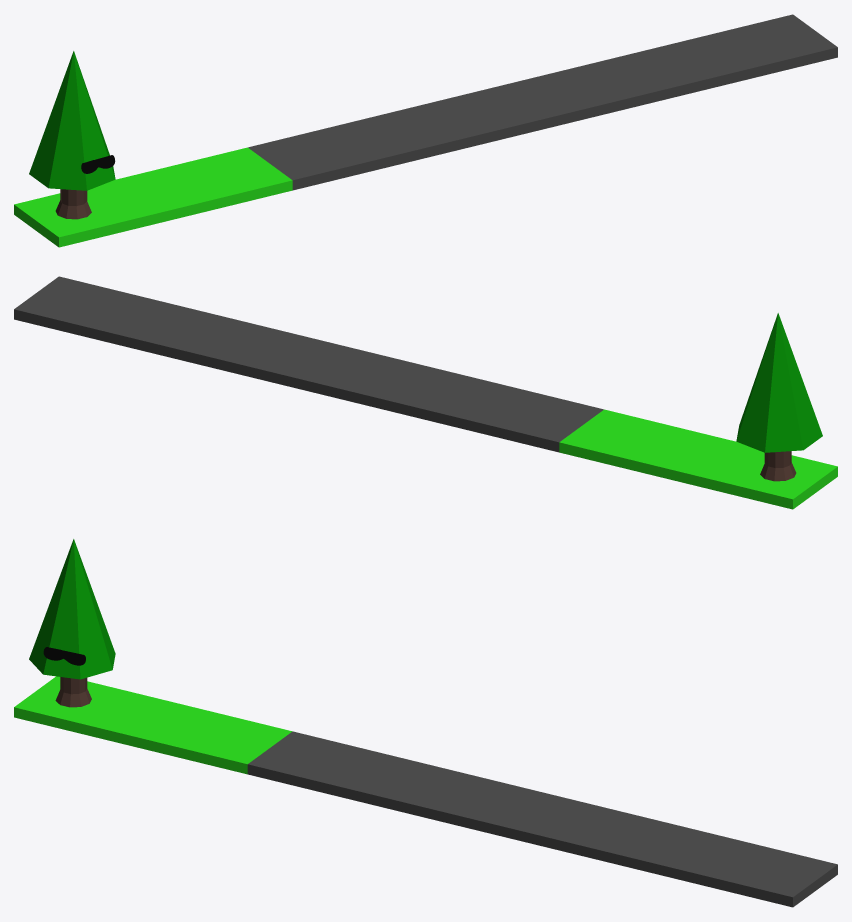
The model's file is Beginning_Platform.fbx.
3 renders of one model, top to bottom at view 1: azimuth 30°, elevation 25°; view 2: azimuth 150°, elevation 25°; view 3: azimuth 330°, elevation 25°, orthographic.
Parts seen in each view (by area): view 1: Platform4Grass2, Platform1Conc1, Platform1Grass, ThePostalTree; view 2: Platform4Grass2, Platform1Conc1, Platform1Grass, ThePostalTree; view 3: Platform4Grass2, Platform1Conc1, Platform1Grass, ThePostalTree.
Part boxes in pixels (bbox=[...]): Platform4Grass2: bbox=[482, 14, 837, 133]; Platform1Conc1: bbox=[248, 90, 526, 190]; Platform1Grass: bbox=[14, 147, 292, 247]; ThePostalTree: bbox=[29, 51, 115, 219]; Platform4Grass2: bbox=[14, 276, 369, 395]; Platform1Conc1: bbox=[325, 352, 603, 452]; Platform1Grass: bbox=[559, 409, 837, 509]; ThePostalTree: bbox=[736, 313, 822, 481]; Platform4Grass2: bbox=[481, 788, 837, 907]; Platform1Conc1: bbox=[247, 731, 525, 831]; Platform1Grass: bbox=[14, 676, 292, 774]; ThePostalTree: bbox=[29, 539, 115, 707].
Bounding box in the file's own units: 2000 × 421 × 200.
